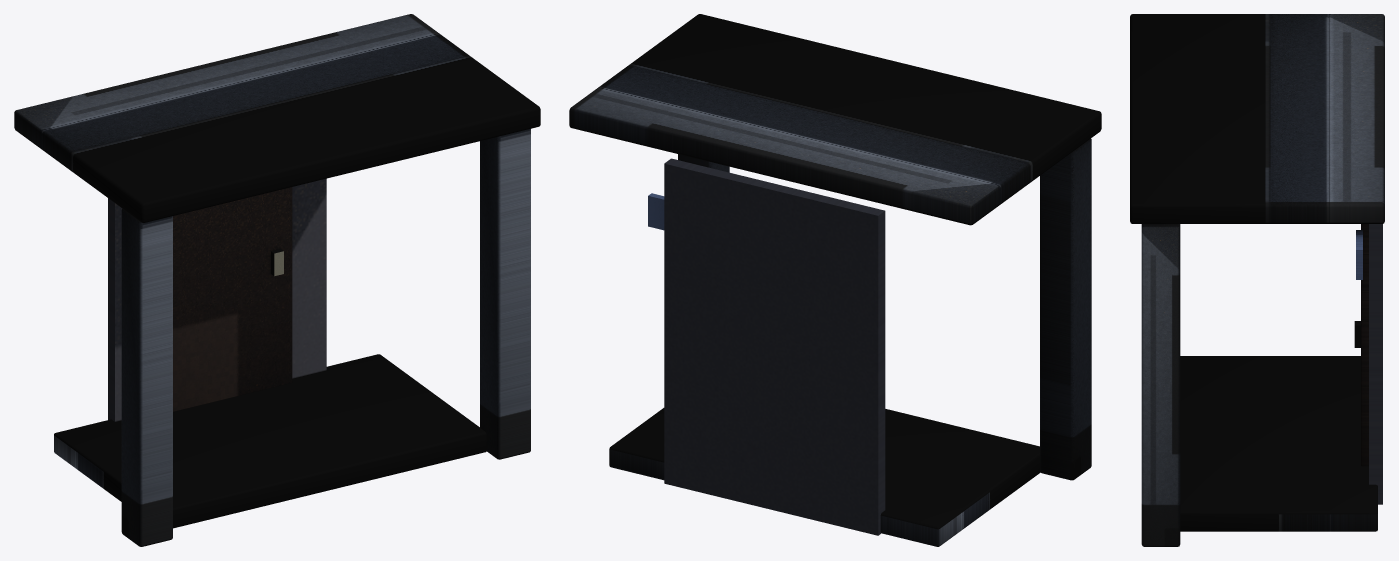
File: entrance.glb
The picture shows the model from 3 angles, left to right: view 1: azimuth 30°, elevation 25°; view 2: azimuth 150°, elevation 25°; view 3: azimuth 270°, elevation 25°; orthographic projection. The views are drawn at different scales.
Parts seen in each view (by area): view 1: canopy, step, door, postL, postR, recess; view 2: recess, canopy, step, postL; view 3: canopy, step, postR, recess, door, plate.
Part boxes in pixels (left/top/right/bottom): canopy: left=14, top=14, right=540, bottom=222; step: left=54, top=354, right=486, bottom=528; door: left=173, top=187, right=292, bottom=411; postL: left=121, top=208, right=172, bottom=546; postR: left=480, top=129, right=530, bottom=459; recess: left=108, top=178, right=326, bottom=421; recess: left=664, top=158, right=885, bottom=535; canopy: left=569, top=14, right=1101, bottom=225; step: left=609, top=408, right=1040, bottom=546; postL: left=1040, top=138, right=1091, bottom=480; canopy: left=1130, top=14, right=1384, bottom=223; step: left=1180, top=356, right=1377, bottom=531; postR: left=1141, top=224, right=1180, bottom=546; recess: left=1369, top=224, right=1382, bottom=504; door: left=1361, top=224, right=1368, bottom=466; plate: left=1356, top=230, right=1362, bottom=279.
Bounding box in the file's own units: 3.3 × 2.76 × 1.85.
6 materials, 6 textured.
